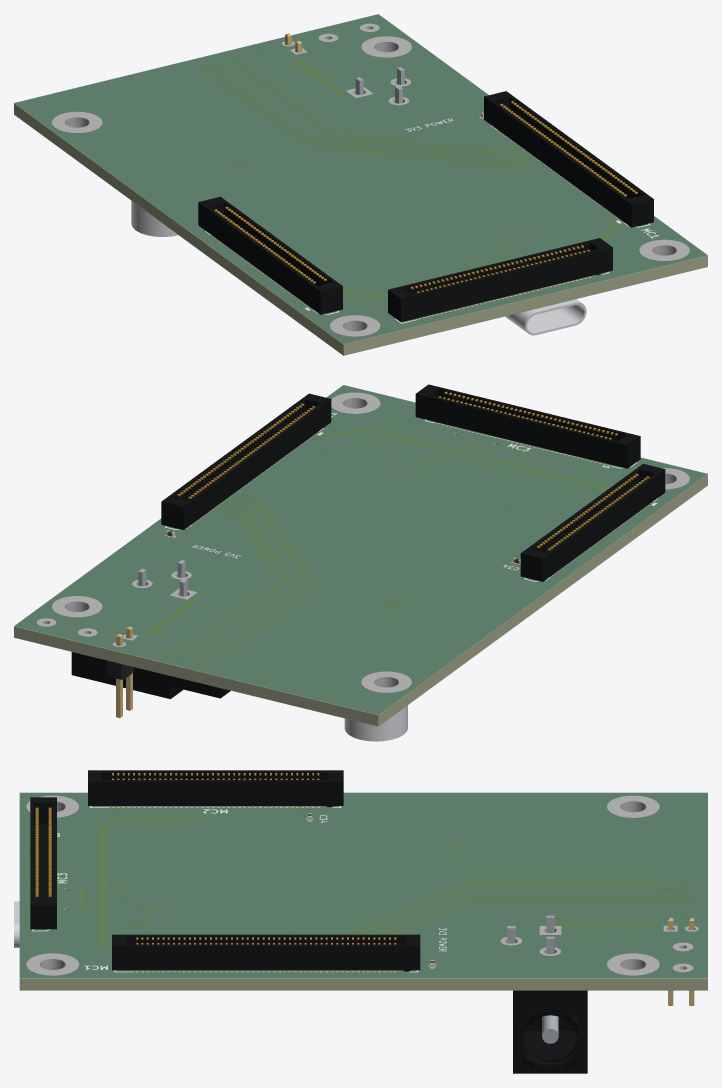
The model's file is Carrier_R11_Interactive.glb.
3 views of the same model, one above another, from view 1: azimuth 30°, elevation 25°; view 2: azimuth 150°, elevation 25°; view 3: azimuth 270°, elevation 25° (orthographic). The views are drawn at different scales.
Visible parts, largest first — view 1: CARRIER_R11_PUBLIC_VISUAL_ONLY_soldermask (×2), CARRIER_R11_PUBLIC_VISUAL_ONLY_PCB, MC3, MC1, MC2, CARRIER_R11_PUBLIC_VISUAL_ONLY_pad, CARRIER_R11_PUBLIC_VISUAL_ONLY_copper, J500, C5; view 2: CARRIER_R11_PUBLIC_VISUAL_ONLY_soldermask (×2), CARRIER_R11_PUBLIC_VISUAL_ONLY_PCB, MC3, MC1, MC2, CARRIER_R11_PUBLIC_VISUAL_ONLY_pad, CARRIER_R11_PUBLIC_VISUAL_ONLY_copper, J4, C5, JP1, J1; view 3: CARRIER_R11_PUBLIC_VISUAL_ONLY_soldermask (×2), CARRIER_R11_PUBLIC_VISUAL_ONLY_PCB, MC1, MC2, J4, CARRIER_R11_PUBLIC_VISUAL_ONLY_pad, MC3, CARRIER_R11_PUBLIC_VISUAL_ONLY_copper, CARRIER_R11_PUBLIC_VISUAL_ONLY_silkscreen.
Boxes of the visible parts, x1,y1,x2,y2 form: CARRIER_R11_PUBLIC_VISUAL_ONLY_soldermask (×2): [14, 14, 707, 355]; CARRIER_R11_PUBLIC_VISUAL_ONLY_PCB: [14, 15, 707, 355]; MC3: [388, 238, 612, 322]; MC1: [484, 91, 653, 227]; MC2: [198, 196, 342, 314]; CARRIER_R11_PUBLIC_VISUAL_ONLY_pad: [52, 23, 689, 336]; CARRIER_R11_PUBLIC_VISUAL_ONLY_copper: [143, 51, 616, 317]; J500: [505, 299, 586, 335]; C5: [131, 201, 178, 236]; CARRIER_R11_PUBLIC_VISUAL_ONLY_soldermask (×2): [14, 385, 707, 726]; CARRIER_R11_PUBLIC_VISUAL_ONLY_PCB: [14, 386, 707, 726]; MC3: [415, 384, 640, 468]; MC1: [161, 393, 331, 529]; MC2: [520, 463, 665, 581]; CARRIER_R11_PUBLIC_VISUAL_ONLY_pad: [36, 392, 689, 692]; CARRIER_R11_PUBLIC_VISUAL_ONLY_copper: [143, 425, 655, 665]; J4: [71, 560, 187, 698]; C5: [344, 705, 407, 741]; JP1: [106, 626, 133, 718]; J1: [134, 667, 230, 698]; CARRIER_R11_PUBLIC_VISUAL_ONLY_soldermask (×2): [19, 792, 707, 990]; CARRIER_R11_PUBLIC_VISUAL_ONLY_PCB: [19, 793, 707, 990]; MC1: [112, 934, 420, 971]; MC2: [88, 770, 343, 806]; J4: [507, 915, 587, 1073]; CARRIER_R11_PUBLIC_VISUAL_ONLY_pad: [26, 795, 698, 975]; MC3: [30, 797, 56, 929]; CARRIER_R11_PUBLIC_VISUAL_ONLY_copper: [24, 806, 693, 975]; CARRIER_R11_PUBLIC_VISUAL_ONLY_silkscreen: [32, 806, 446, 972].
Size of the model in its own units: 0.053 by 0.0163 by 0.0837.
